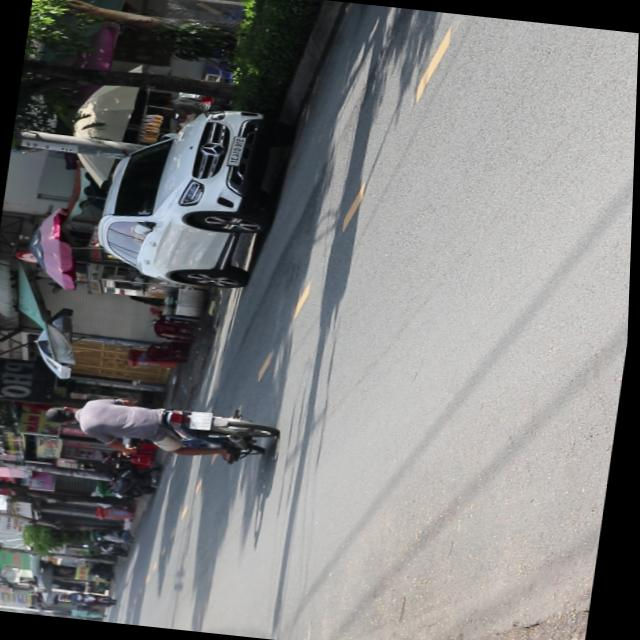licenseplate: (39, 386, 282, 466)
motorcyclist: (45, 402, 82, 424)
nohelmet: (192, 408, 214, 428)
